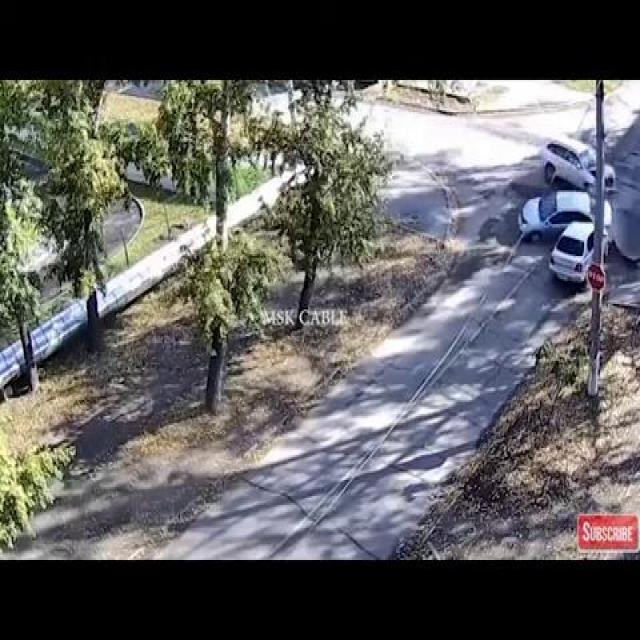accident: (499, 138, 624, 282)
